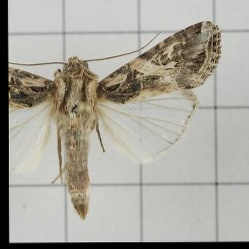Spodoptera litura: (8, 20, 222, 220)
